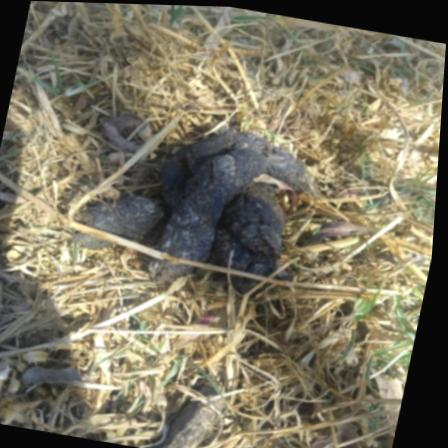dog-poop: (92, 109, 316, 301)
